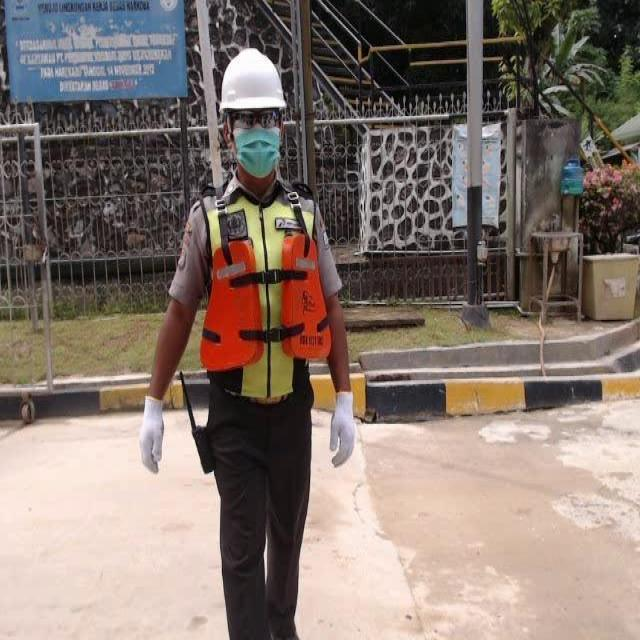Vest: (200, 238, 336, 378)
